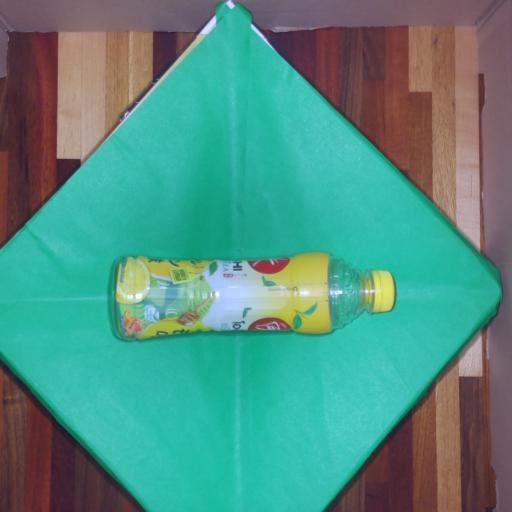bottle: (114, 253, 394, 339)
